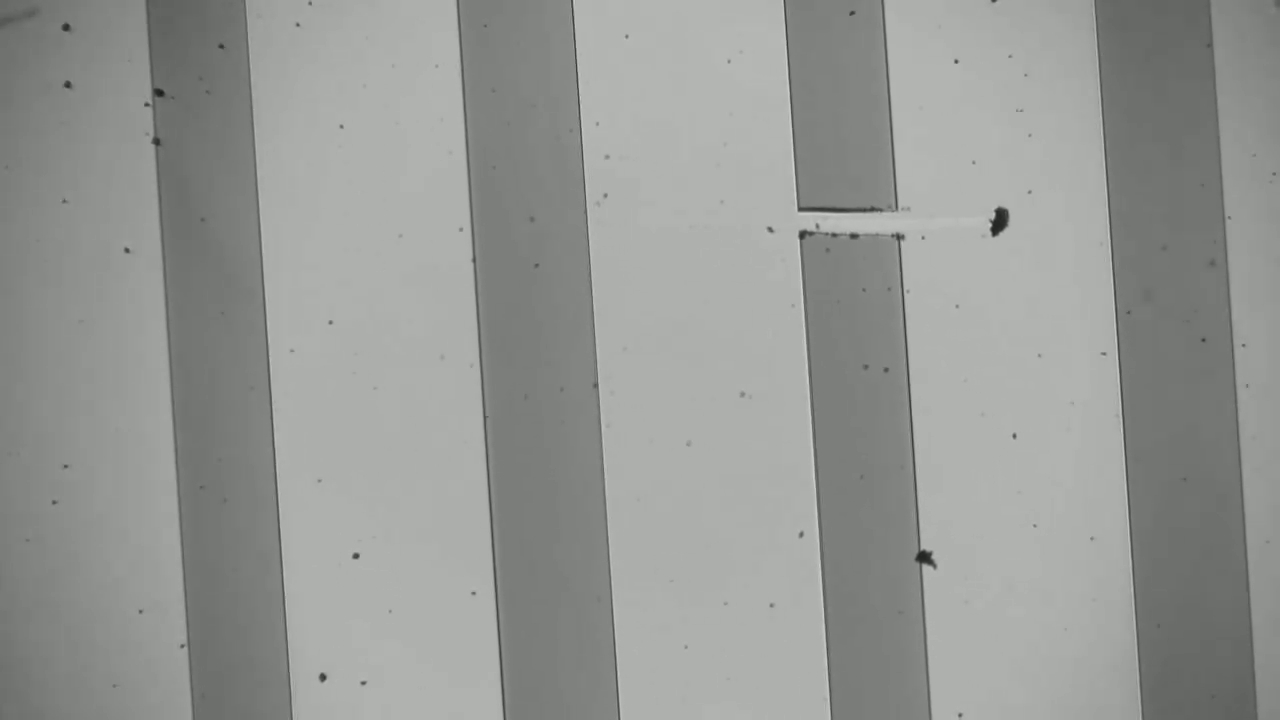Short_circuit: (767, 187, 955, 263)
